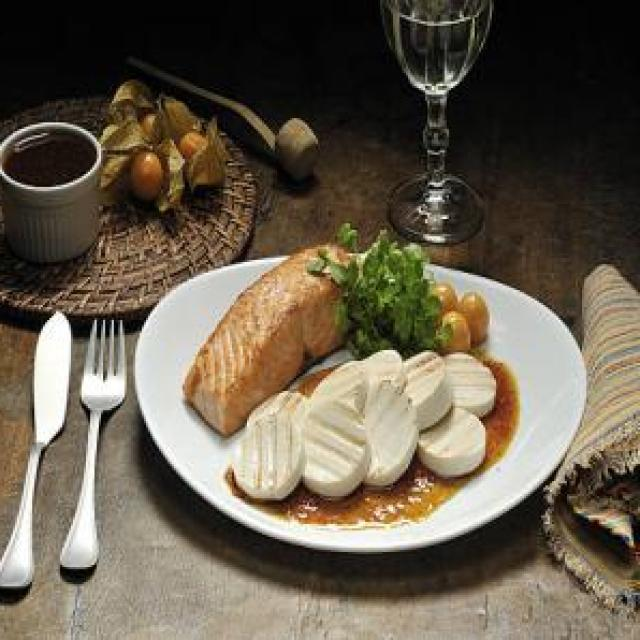knife: (0, 311, 73, 595)
